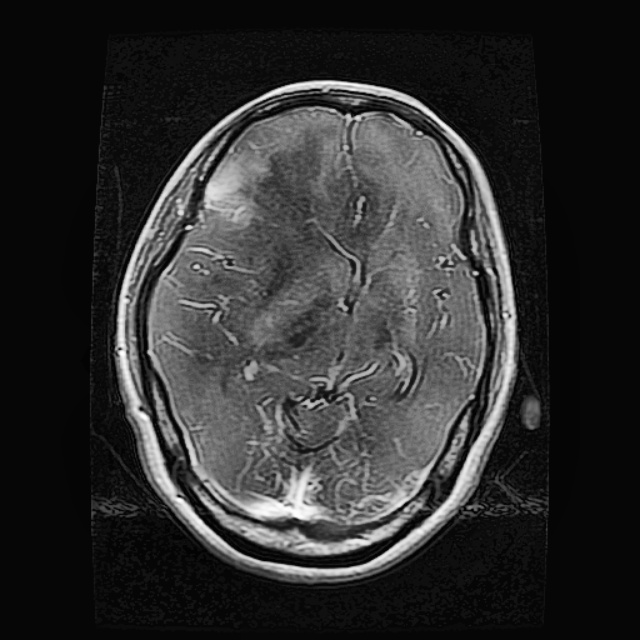Glioma: (202, 139, 274, 223)
